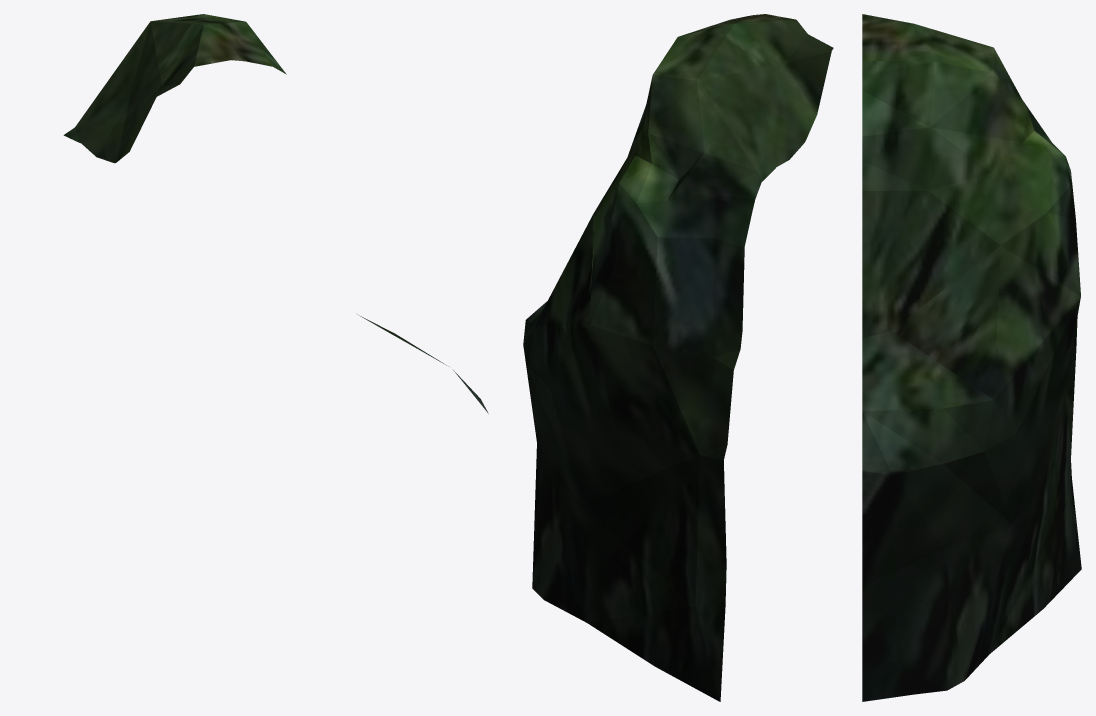
3 renders of one model, left to right at view 1: azimuth 30°, elevation 25°; view 2: azimuth 150°, elevation 25°; view 3: azimuth 270°, elevation 25°, orthographic. The views are drawn at different scales.
Bounding box in the file's own units: 0.2782 × 0.5431 × 0.1865.
Materials: 1 (1 with a texture image).
